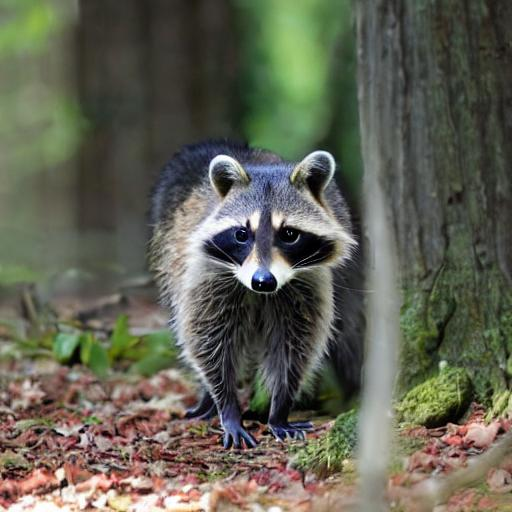raccoon: (134, 127, 369, 452)
